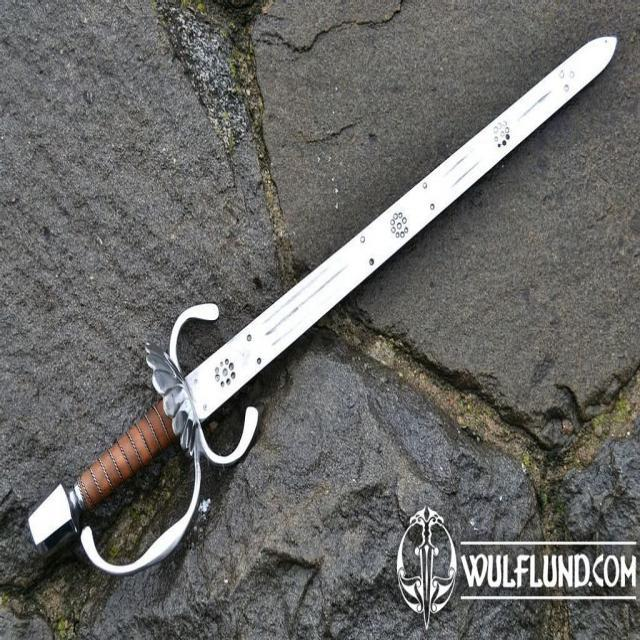short sword: (6, 18, 626, 590)
